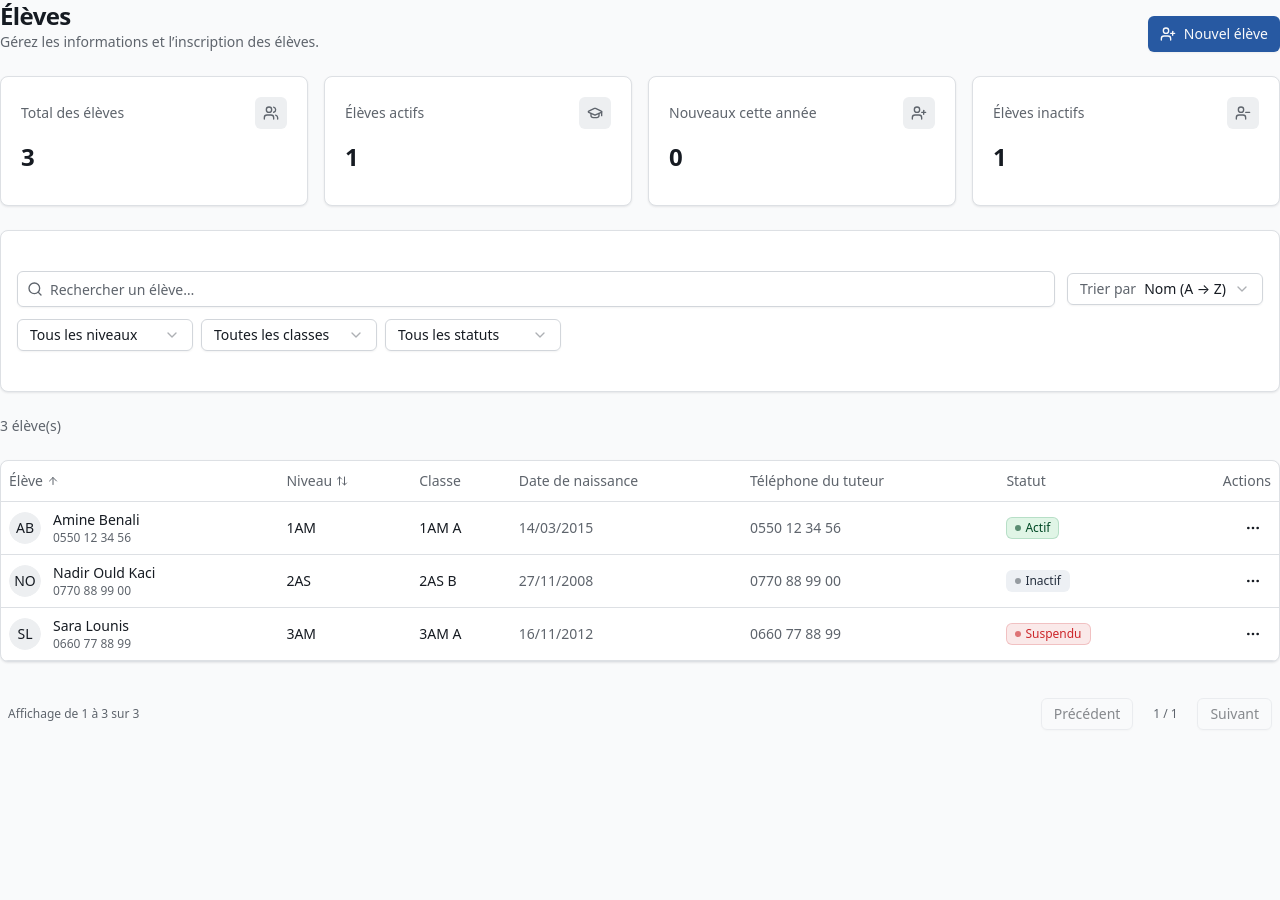
Test: StudentsPage › changes a student status
expect the link "Amine Benali" is shown: met, box x1=53 y1=510 x2=140 y2=528
Click the button named "Actions" in the row of "AB": click(1253, 528) x1=1235 y1=510 x2=1271 y2=546
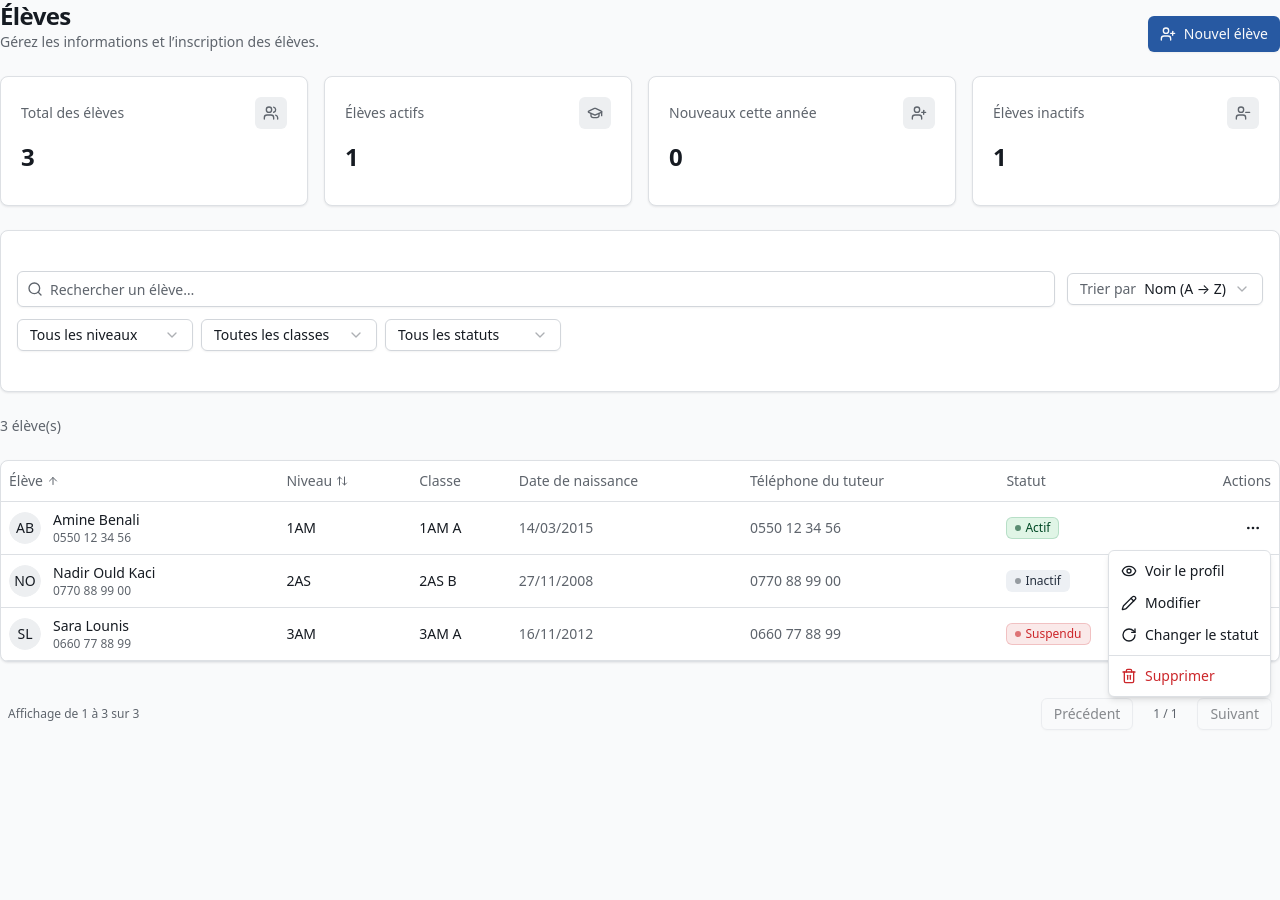
Click the menu item "Changer le statut": click(1190, 634) x1=1121 y1=625 x2=1258 y2=644
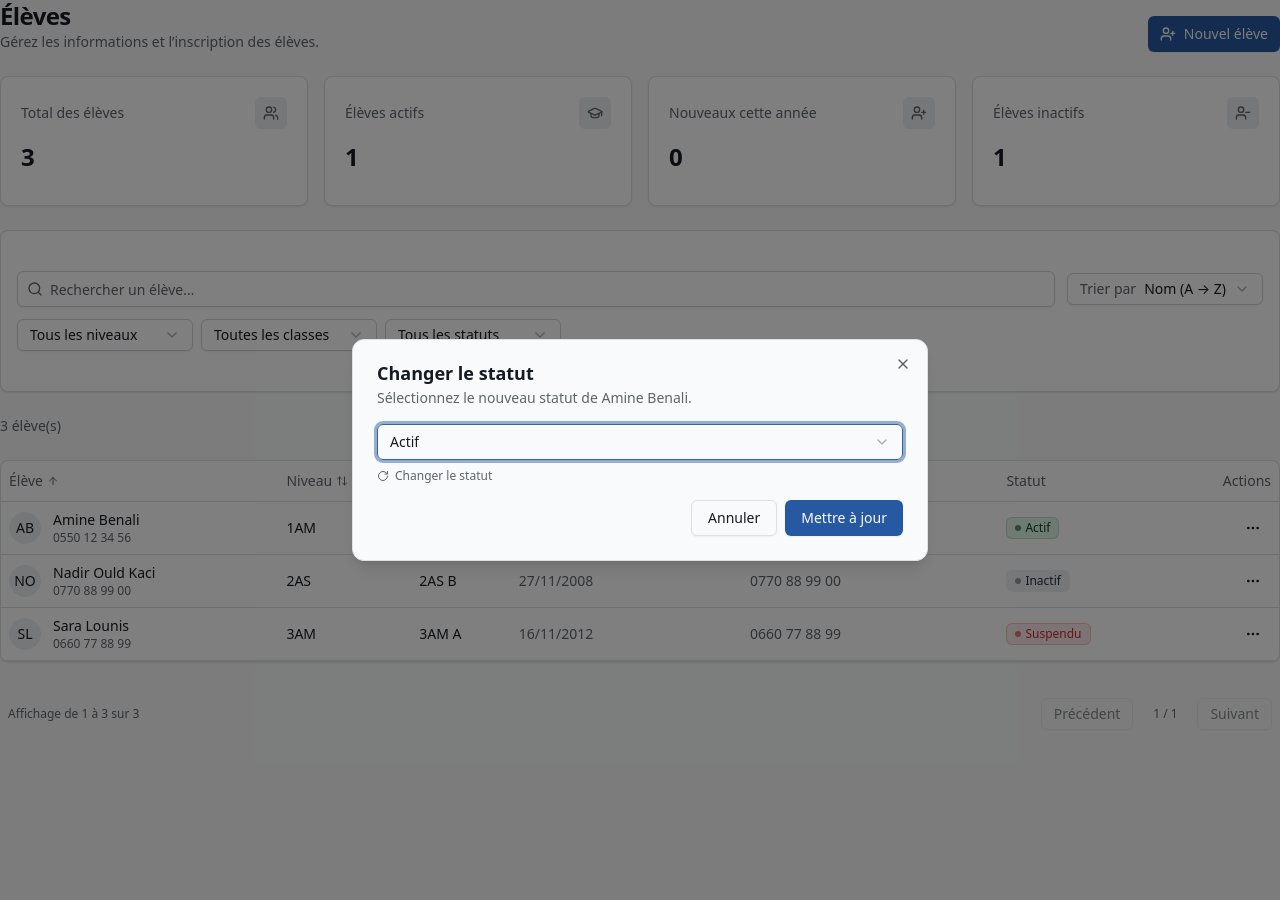
expect the dialog is shown: met, box x1=352 y1=339 x2=928 y2=561
Click the dropdown named "Statut": click(405, 442) x1=377 y1=424 x2=903 y2=460
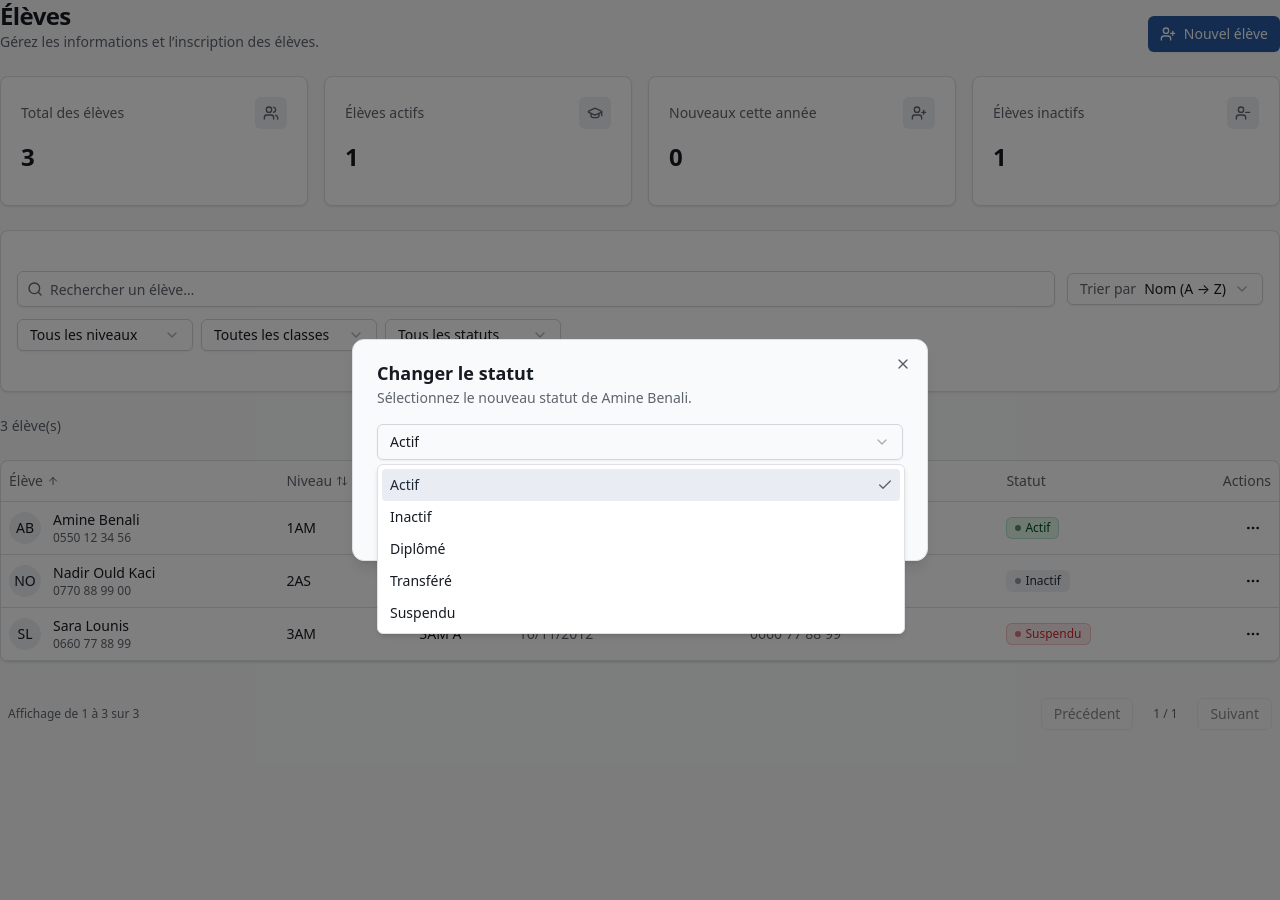
Click the option "Inactif": click(411, 516) x1=390 y1=507 x2=432 y2=526
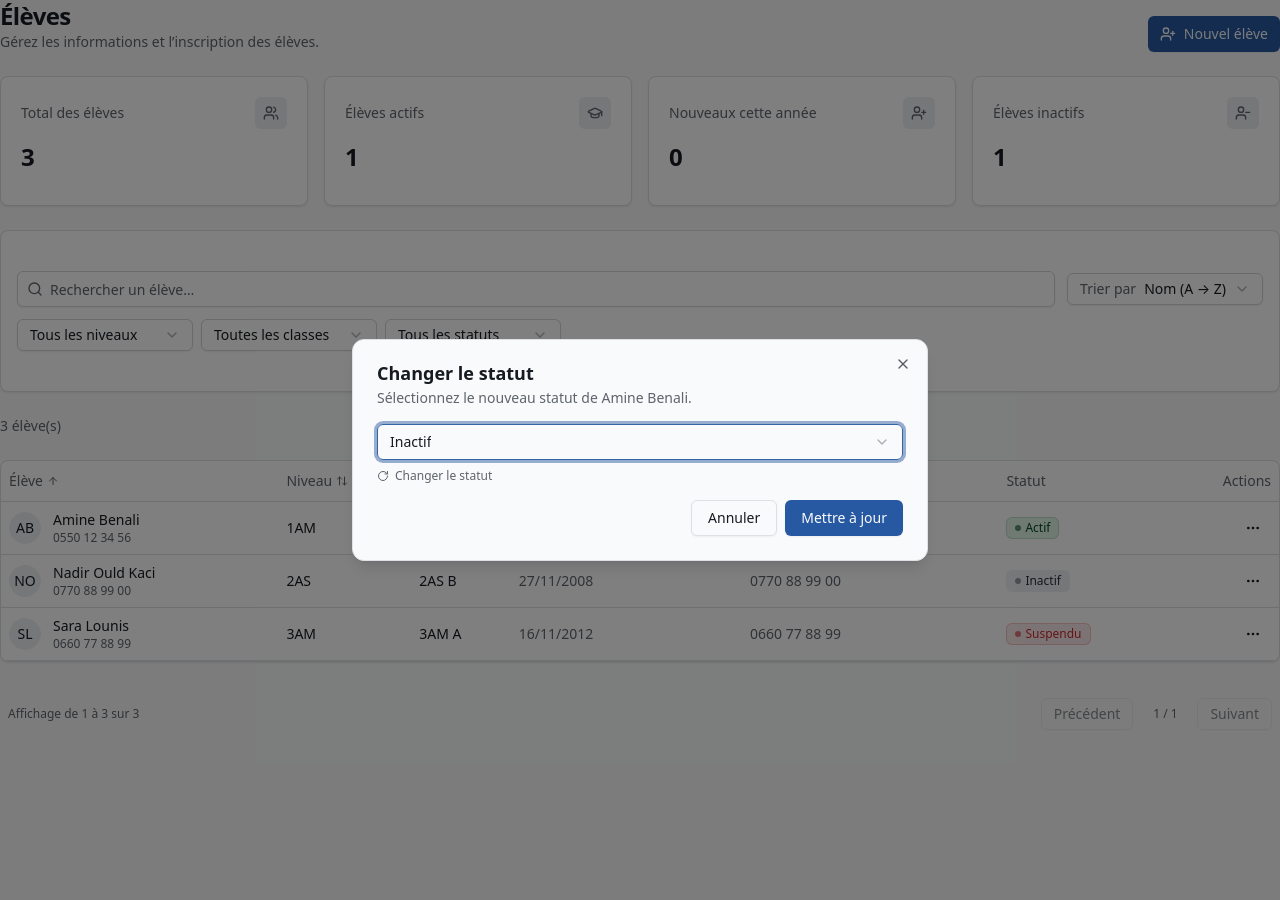
Click the button "Mettre à jour": click(844, 518) x1=785 y1=500 x2=903 y2=536
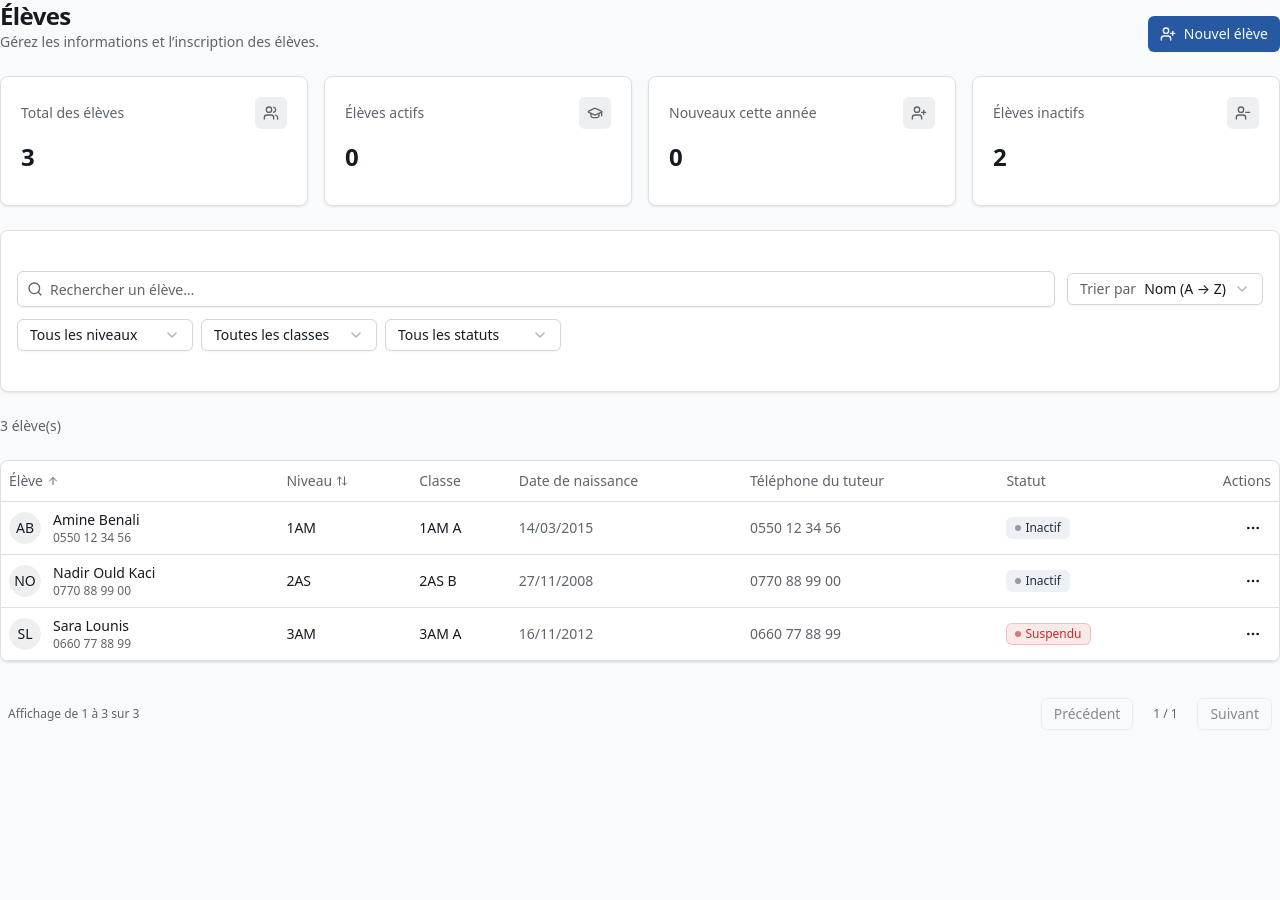
expect the text "Inactif" is shown: met, box x1=1006 y1=517 x2=1070 y2=539
